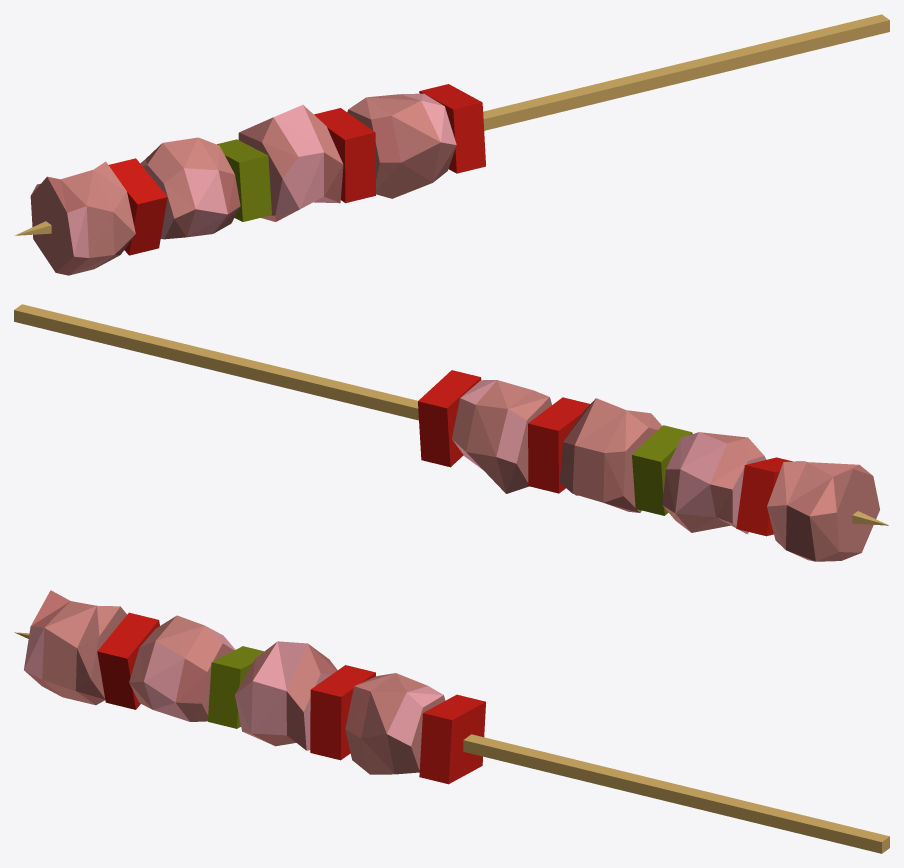
Rendered from SM_Cook_SkewerPepper_Raw_01.fbx.
3 views of the same model, one above another, from view 1: azimuth 30°, elevation 25°; view 2: azimuth 150°, elevation 25°; view 3: azimuth 330°, elevation 25° (orthographic).
Parts seen in each view (by area): view 1: SM_Cook_SkewerPepper_Raw_01; view 2: SM_Cook_SkewerPepper_Raw_01; view 3: SM_Cook_SkewerPepper_Raw_01.
Part boxes in pixels (left/top/right/bottom): SM_Cook_SkewerPepper_Raw_01: left=14, top=14, right=889, bottom=275; SM_Cook_SkewerPepper_Raw_01: left=14, top=304, right=888, bottom=561; SM_Cook_SkewerPepper_Raw_01: left=14, top=590, right=889, bottom=853.
Size of the model in its own units: 0.25 by 0.0307 by 0.0277.
Materials: 1 (1 with a texture image).
